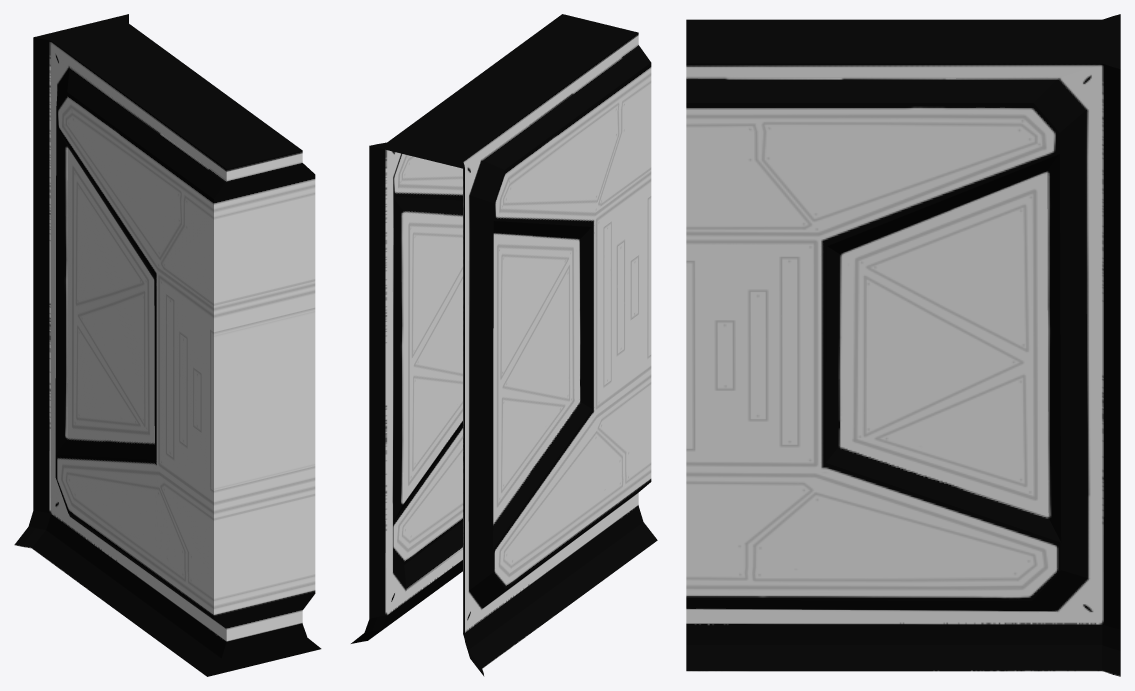
File: Kleine_Muur1.fbx
3 views of the same model, side by side, from view 1: azimuth 30°, elevation 25°; view 2: azimuth 150°, elevation 25°; view 3: azimuth 270°, elevation 25° (orthographic). The views are drawn at different scales.
Visible parts, largest first — view 1: Kleine_Muur1; view 2: Kleine_Muur1; view 3: Kleine_Muur1.
Part boxes in pixels (<box>): Kleine_Muur1: <box>14,14,321,676</box>; Kleine_Muur1: <box>351,14,657,676</box>; Kleine_Muur1: <box>686,14,1120,676</box>.
Size of the model in its own units: 4.19 by 15 by 9.91.
